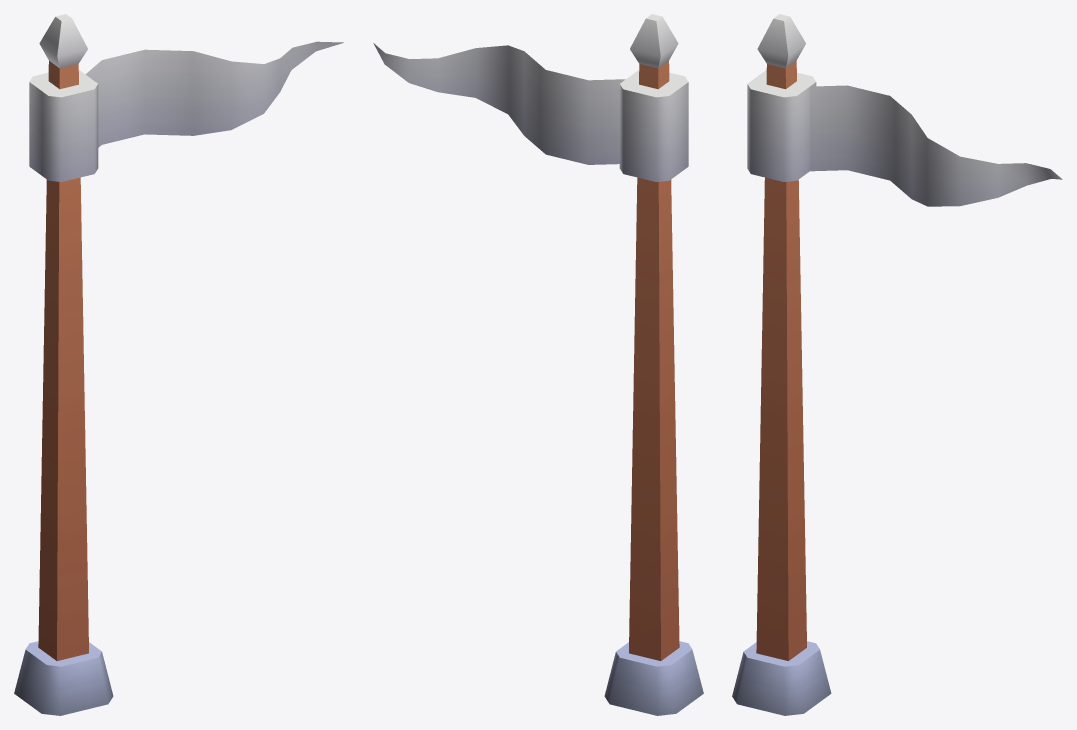
The model's file is flag-high-pennant.glb.
3 views of the same model, side by side, from view 1: azimuth 30°, elevation 25°; view 2: azimuth 150°, elevation 25°; view 3: azimuth 330°, elevation 25° (orthographic).
Parts seen in each view (by area): view 1: flag-high-pennant; view 2: flag-high-pennant; view 3: flag-high-pennant.
Part boxes in pixels (bbox=[...]): flag-high-pennant: bbox=[14, 14, 343, 715]; flag-high-pennant: bbox=[373, 14, 703, 715]; flag-high-pennant: bbox=[732, 14, 1062, 715].
Bounding box in the file's own units: 1.76 × 3.6 × 0.3987.
1 material, 1 textured.
